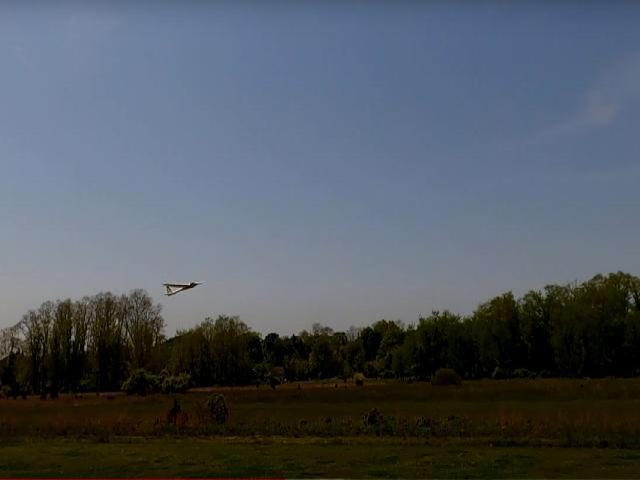iha: (159, 268, 208, 300)
